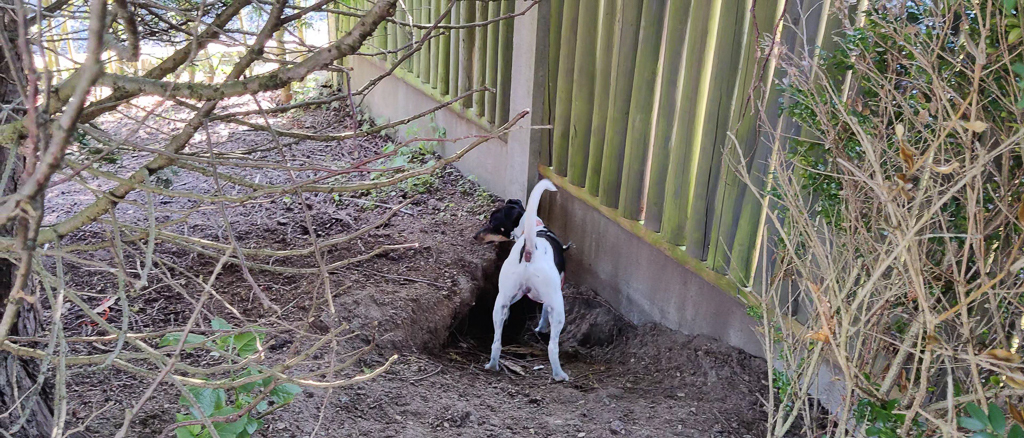Dog: (460, 164, 612, 387)
